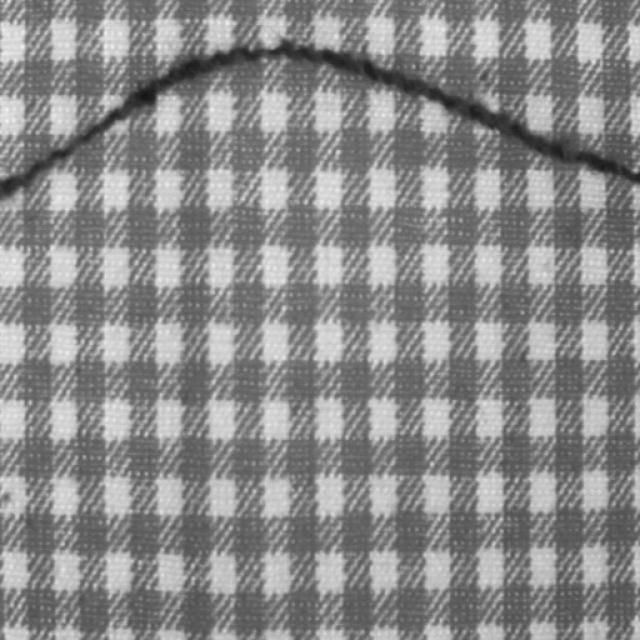Foreign-Body-Defect: (0, 36, 639, 201)
